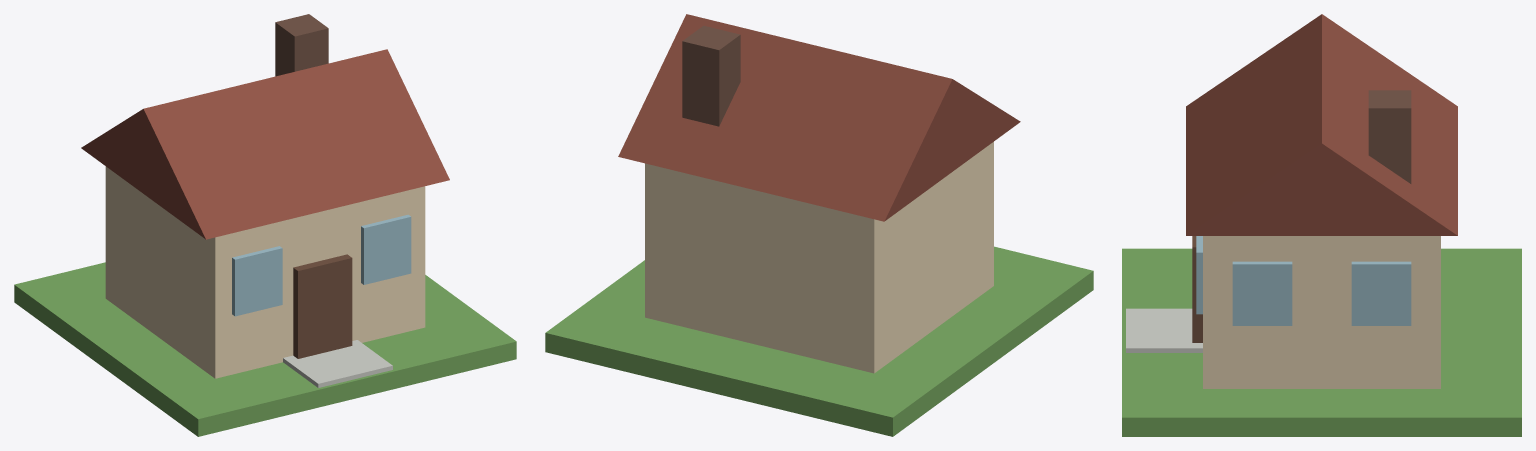
The model's file is house-1.glb.
3 views of the same model, side by side, from view 1: azimuth 30°, elevation 25°; view 2: azimuth 150°, elevation 25°; view 3: azimuth 270°, elevation 25° (orthographic). The views are drawn at different scales.
Parts seen in each view (by area): view 1: house-1; view 2: house-1; view 3: house-1.
Part boxes in pixels (x1,y1,x2,y2): house-1: (14,14,516,436); house-1: (545,14,1093,436); house-1: (1122,14,1521,436).
Bounding box in the file's own units: 0.94 × 0.75 × 0.94.
